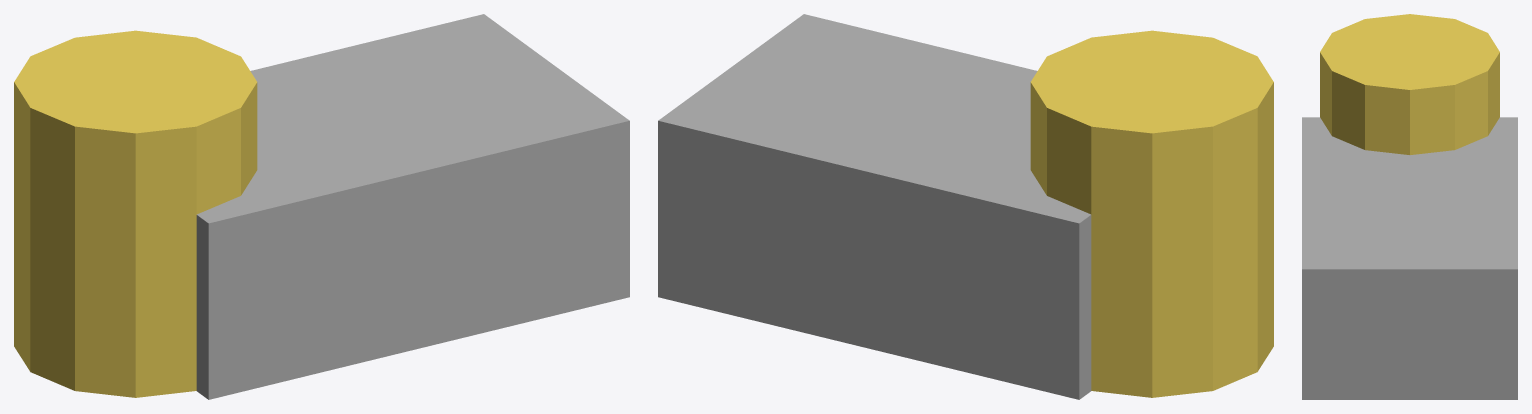
File: salt_bucket_spreader.glb
3 views of the same model, side by side, from view 1: azimuth 30°, elevation 25°; view 2: azimuth 150°, elevation 25°; view 3: azimuth 270°, elevation 25° (orthographic). The views are drawn at different scales.
Visible parts, largest first — view 1: spreader, bucket; view 2: spreader, bucket; view 3: spreader, bucket.
Boxes of the visible parts, x1,y1,x2,y2 form: spreader: (196,14,629,399); bucket: (14,30,257,397); spreader: (658,14,1091,399); bucket: (1030,30,1273,397); spreader: (1302,117,1517,399); bucket: (1320,14,1499,154).
Bounding box in the file's own units: 1.25 × 0.6002 × 0.5996.
